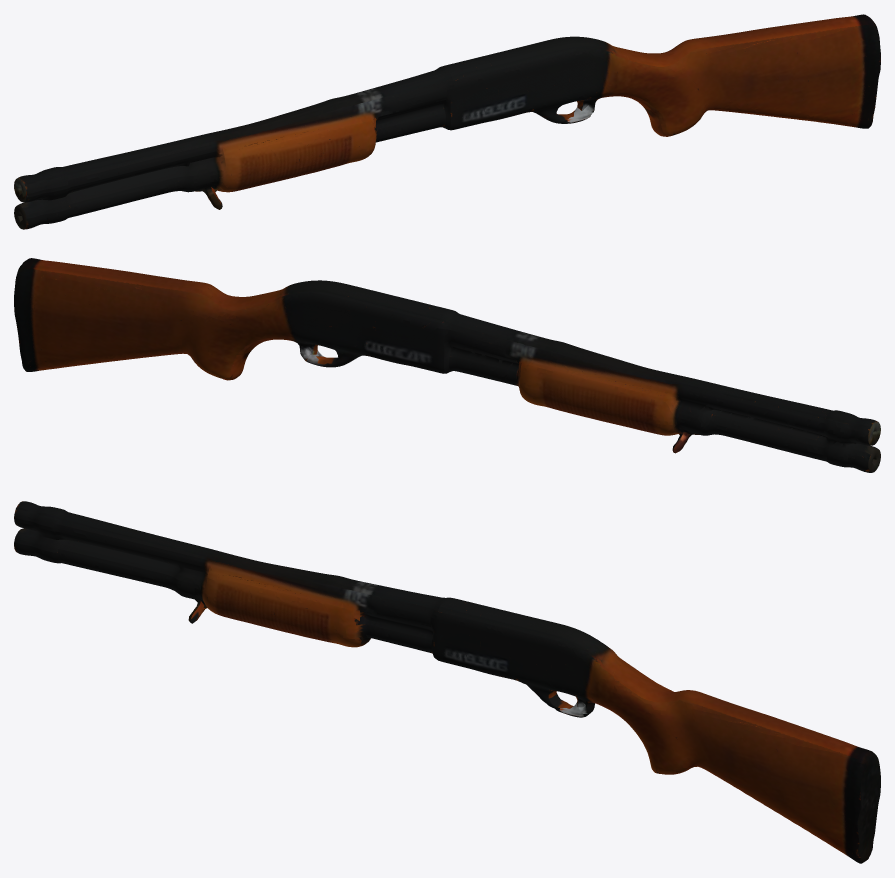
Rendered from shotgun_tex.glb.
3 views of the same model, one above another, from view 1: azimuth 30°, elevation 25°; view 2: azimuth 150°, elevation 25°; view 3: azimuth 330°, elevation 25° (orthographic).
Parts seen in each view (by area): view 1: tmpyin6ludg.ply; view 2: tmpyin6ludg.ply; view 3: tmpyin6ludg.ply.
Part boxes in pixels (left/top/right/bottom): tmpyin6ludg.ply: left=14, top=14, right=880, bottom=229; tmpyin6ludg.ply: left=14, top=258, right=880, bottom=472; tmpyin6ludg.ply: left=14, top=501, right=880, bottom=863.
Bounding box in the file's own units: 1.99 × 0.3592 × 0.1266.
1 material, 1 textured.
